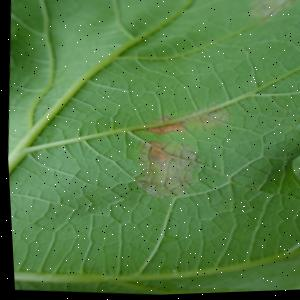Folha: (0, 0, 300, 300)
Fungo: (126, 101, 232, 206), (129, 139, 199, 203), (141, 101, 229, 142), (143, 115, 185, 138)
